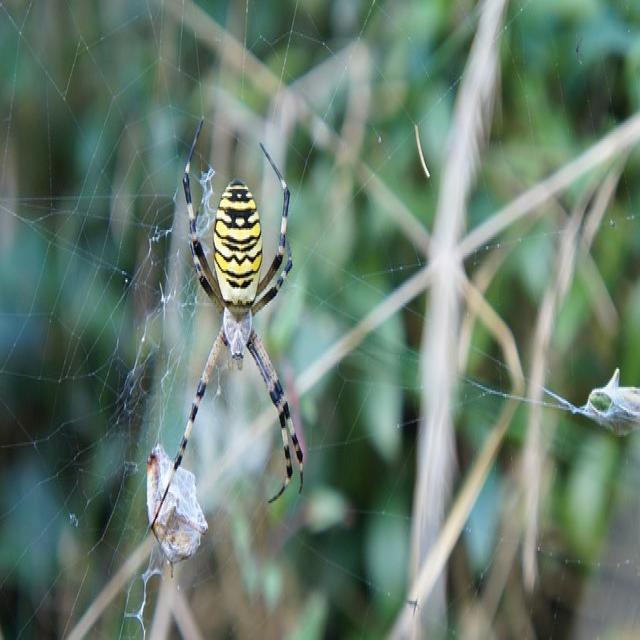spyder: (170, 120, 302, 498)
